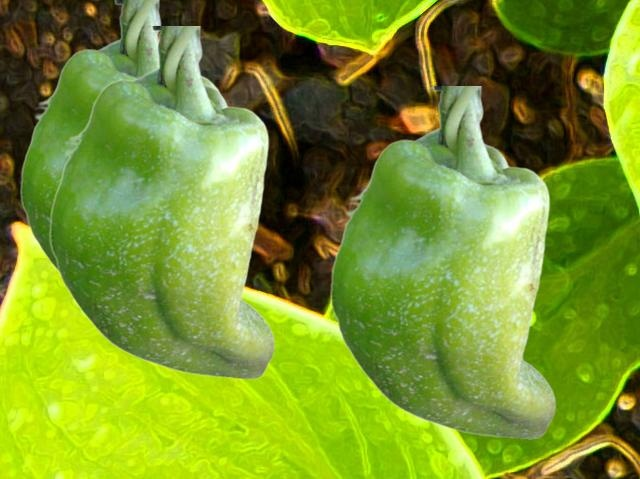bell_pepper: (329, 86, 555, 438), (48, 26, 274, 378), (19, 0, 222, 275)
